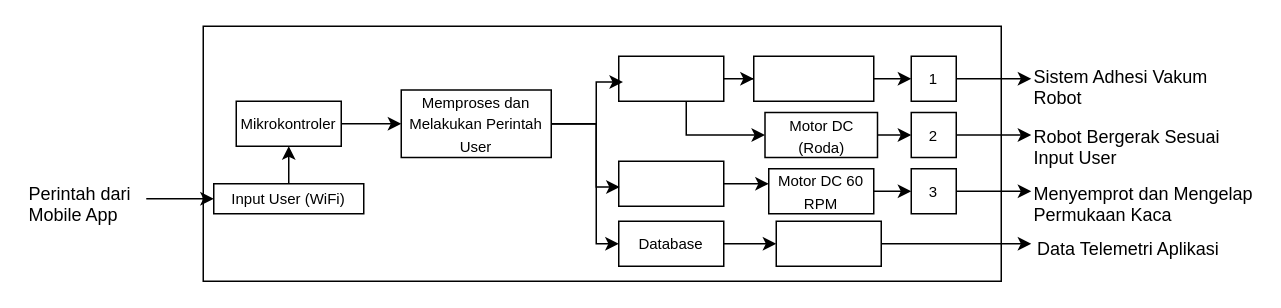
The diagram is 1281 pixels wide and 308 high, and some of its shapes have lost their labels. Here are the shapes that lost their labels. From the top down, the centre of each, then its label:
At [670,78]: "Motor Driver".
At [813,78]: "Motor Brushless 23.000 RPM".
At [670,183]: "Pompa Cairan".
At [828,243]: "Mobile App".
